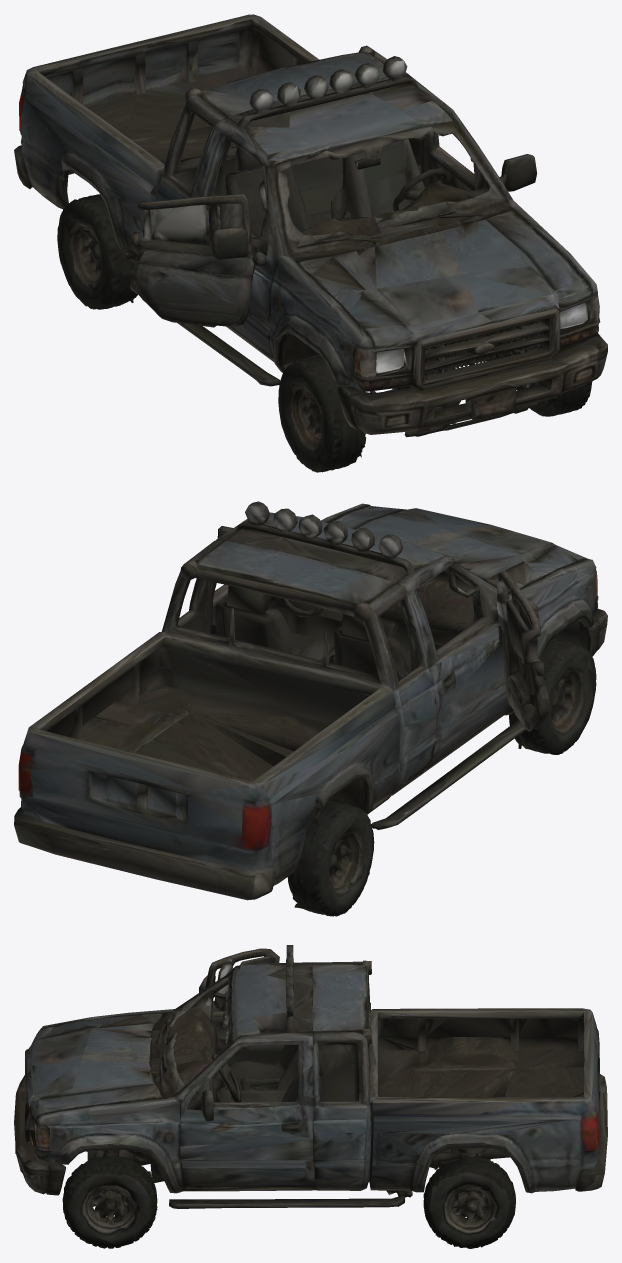
Rendered from VEH_M_DarkRustPickup.glb.
The picture shows the model from 3 angles, top to bottom: view 1: azimuth 30°, elevation 25°; view 2: azimuth 150°, elevation 25°; view 3: azimuth 270°, elevation 25°; orthographic projection. The views are drawn at different scales.
Parts seen in each view (by area): view 1: VEH_M_DarkRustPickup; view 2: VEH_M_DarkRustPickup; view 3: VEH_M_DarkRustPickup.
Part boxes in pixels (bbox=[...]): VEH_M_DarkRustPickup: bbox=[14, 14, 607, 472]; VEH_M_DarkRustPickup: bbox=[14, 501, 607, 916]; VEH_M_DarkRustPickup: bbox=[14, 945, 607, 1248].
Bounding box in the file's own units: 3 × 2.21 × 5.2.
Materials: 1 (1 with a texture image).
